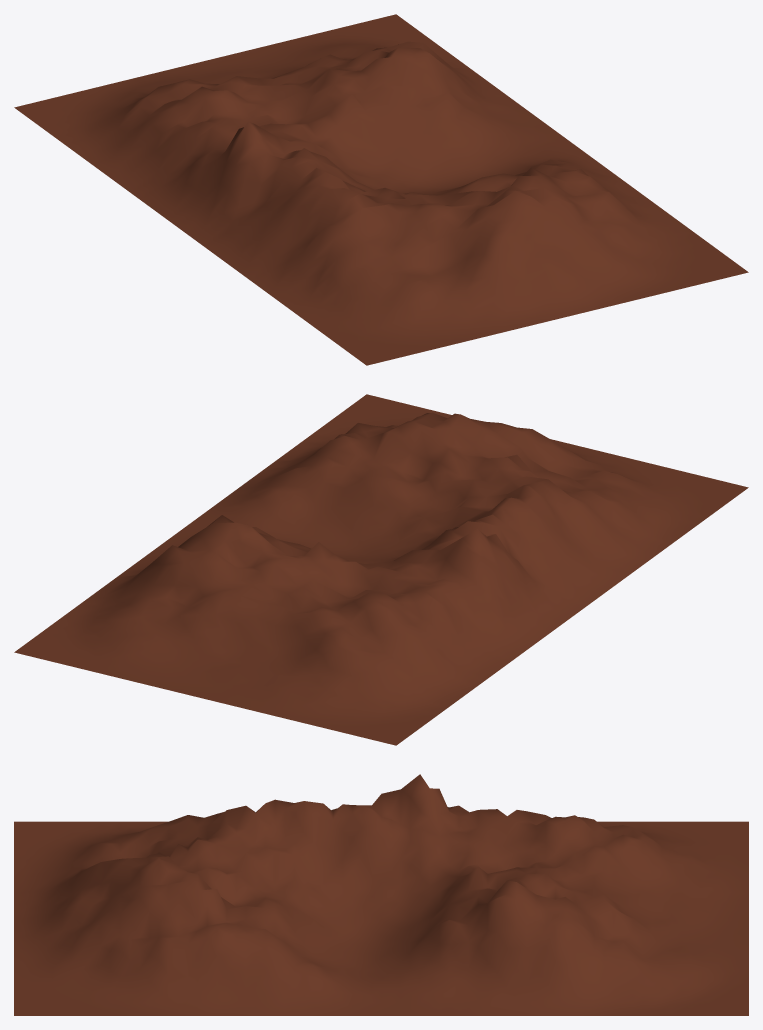
File: dirt.fbx
The picture shows the model from 3 angles, top to bottom: view 1: azimuth 30°, elevation 25°; view 2: azimuth 150°, elevation 25°; view 3: azimuth 270°, elevation 25°; orthographic projection. The views are drawn at different scales.
Visible parts, largest first — view 1: Landscape; view 2: Landscape; view 3: Landscape.
Part boxes in pixels (left/top/right/bottom): Landscape: left=14, top=14, right=748, bottom=365; Landscape: left=14, top=394, right=748, bottom=745; Landscape: left=14, top=774, right=748, bottom=1015.
Size of the model in its own units: 326 by 67.5 by 521.
